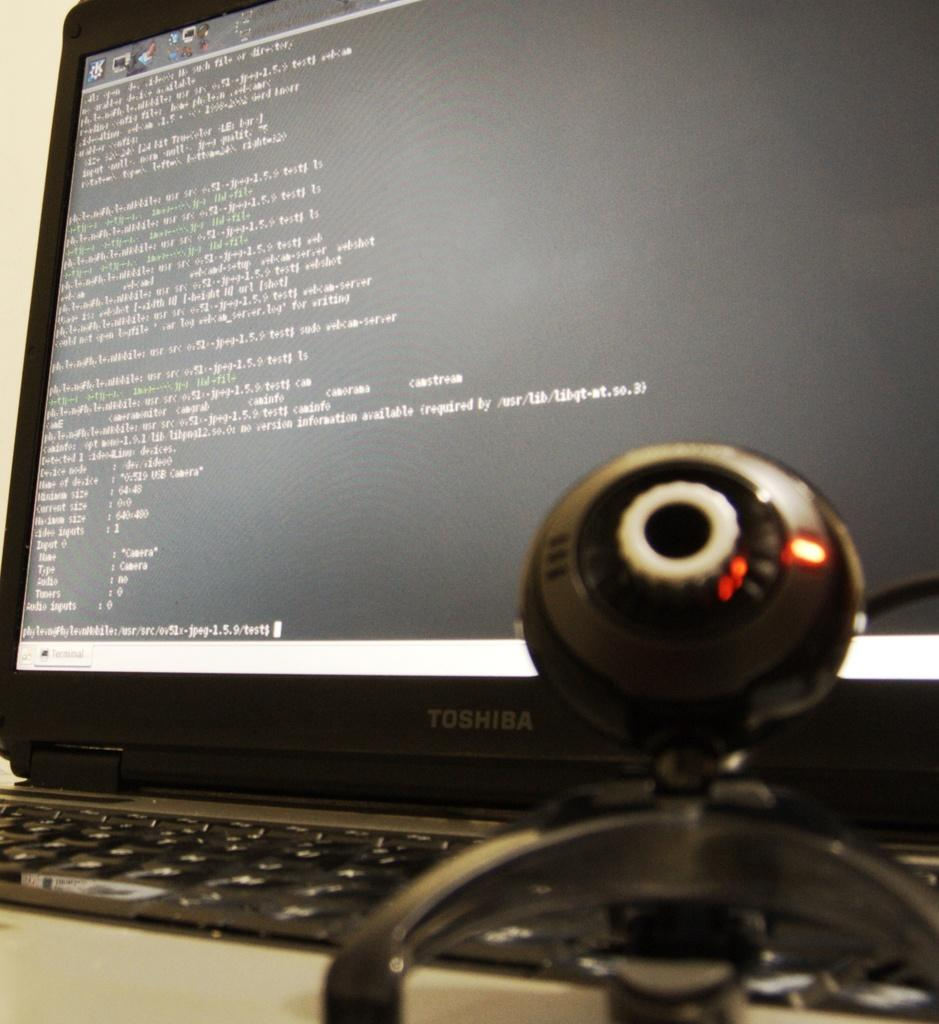Computer-keyboard: (0, 796, 938, 1023)
Computer-monitor: (0, 0, 927, 945)
Laptop: (0, 0, 938, 1023)
